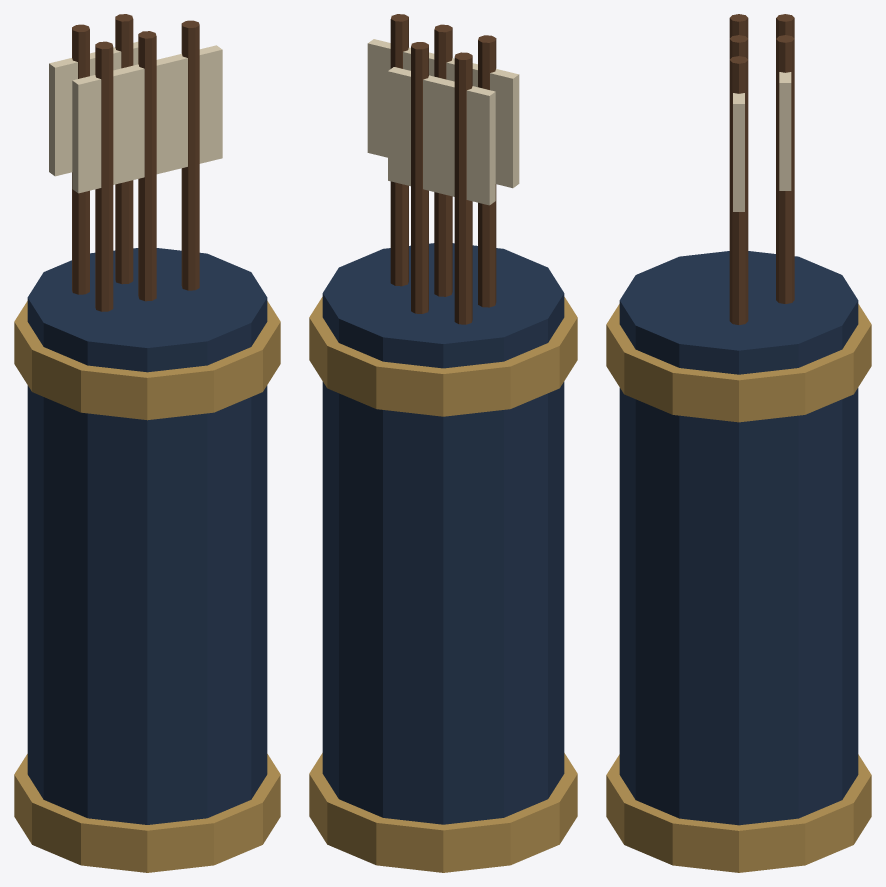
The model's file is adventure-quiver.glb.
The picture shows the model from 3 angles, left to right: view 1: azimuth 30°, elevation 25°; view 2: azimuth 150°, elevation 25°; view 3: azimuth 270°, elevation 25°; orthographic projection.
Visible parts, largest first — view 1: Leather quiver, Quiver gold rim.001, Quiver gold rim, Arrow fletching, Arrow fletching.002, Arrow fletching.001, Arrow shaft, Arrow shaft.001, Arrow shaft.002, Arrow fletching.003, Arrow shaft.004, Arrow shaft.003; view 2: Leather quiver, Quiver gold rim.001, Quiver gold rim, Arrow fletching.003, Arrow shaft.003, Arrow fletching.004, Arrow shaft.004, Arrow fletching, Arrow shaft, Arrow shaft.002, Arrow shaft.001, Arrow fletching.002; view 3: Leather quiver, Quiver gold rim, Quiver gold rim.001, Arrow shaft.002, Arrow shaft.004, Arrow fletching.004, Arrow fletching.002.
Boxes of the visible parts, x1=… form: Leather quiver: x1=27, y1=248, x2=267, y2=824; Quiver gold rim.001: x1=14, y1=301, x2=280, y2=420; Quiver gold rim: x1=14, y1=754, x2=280, y2=872; Arrow fletching: x1=72, y1=66, x2=135, y2=193; Arrow fletching.002: x1=159, y1=45, x2=222, y2=171; Arrow fletching.001: x1=116, y1=56, x2=179, y2=182; Arrow shaft: x1=95, y1=41, x2=113, y2=311; Arrow shaft.001: x1=138, y1=31, x2=156, y2=301; Arrow shaft.002: x1=181, y1=20, x2=199, y2=290; Arrow fletching.003: x1=49, y1=52, x2=95, y2=176; Arrow shaft.004: x1=115, y1=14, x2=133, y2=284; Arrow shaft.003: x1=72, y1=24, x2=89, y2=294; Leather quiver: x1=322, y1=243, x2=564, y2=824; Quiver gold rim.001: x1=309, y1=297, x2=577, y2=416; Quiver gold rim: x1=309, y1=753, x2=577, y2=872; Arrow fletching.003: x1=431, y1=77, x2=495, y2=205; Arrow shaft.003: x1=454, y1=52, x2=472, y2=324; Arrow fletching.004: x1=388, y1=67, x2=449, y2=191; Arrow shaft.004: x1=411, y1=42, x2=428, y2=313; Arrow fletching: x1=472, y1=63, x2=519, y2=188; Arrow shaft: x1=478, y1=35, x2=496, y2=307; Arrow shaft.002: x1=390, y1=14, x2=408, y2=286; Arrow shaft.001: x1=434, y1=24, x2=452, y2=296; Arrow fletching.002: x1=367, y1=39, x2=429, y2=157; Leather quiver: x1=619, y1=251, x2=858, y2=825; Quiver gold rim: x1=606, y1=754, x2=871, y2=872; Quiver gold rim.001: x1=606, y1=304, x2=871, y2=422; Arrow shaft.002: x1=729, y1=56, x2=748, y2=324; Arrow shaft.004: x1=776, y1=35, x2=794, y2=303; Arrow fletching.004: x1=779, y1=72, x2=791, y2=190; Arrow fletching.002: x1=733, y1=93, x2=744, y2=211.
Bounding box in the file's own units: 0.4 × 1.3 × 0.4.
